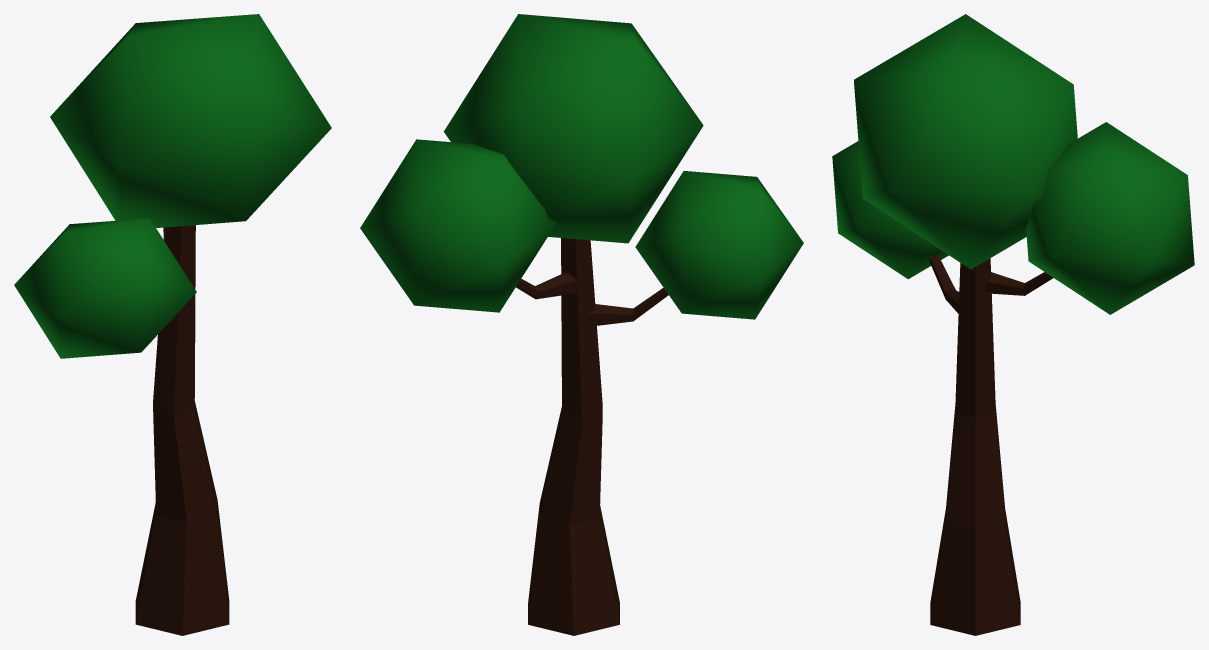
The model's file is Agac3.FBX.
3 views of the same model, side by side, from view 1: azimuth 30°, elevation 25°; view 2: azimuth 150°, elevation 25°; view 3: azimuth 270°, elevation 25° (orthographic). The views are drawn at different scales.
Visible parts, largest first — view 1: GeoSphere001, Cylinder001, GeoSphere002; view 2: GeoSphere001, GeoSphere003, Cylinder001, GeoSphere002, Cylinder002, Cylinder003; view 3: GeoSphere001, GeoSphere003, Cylinder001, GeoSphere002, Cylinder003, Cylinder002.
Part boxes in pixels (x1,y1,x2,y2): GeoSphere001: (50, 14, 331, 227); Cylinder001: (135, 225, 229, 635); GeoSphere002: (14, 218, 196, 358); GeoSphere001: (443, 14, 703, 243); GeoSphere003: (360, 139, 556, 312); Cylinder001: (528, 238, 619, 635); GeoSphere002: (635, 171, 803, 319); Cylinder002: (587, 288, 668, 325); Cylinder003: (516, 272, 581, 299); GeoSphere001: (854, 14, 1077, 269); GeoSphere003: (1026, 122, 1194, 314); Cylinder001: (930, 258, 1020, 635); GeoSphere002: (832, 141, 948, 279); Cylinder003: (985, 272, 1053, 295); Cylinder002: (929, 254, 959, 313).
Bounding box in the file's own units: 33.11 × 61.45 × 35.27.
